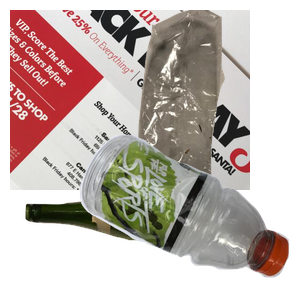glass: (23, 186, 249, 300)
paper: (10, 10, 250, 190)
plastic: (77, 132, 300, 300)
trash: (114, 10, 300, 190)
